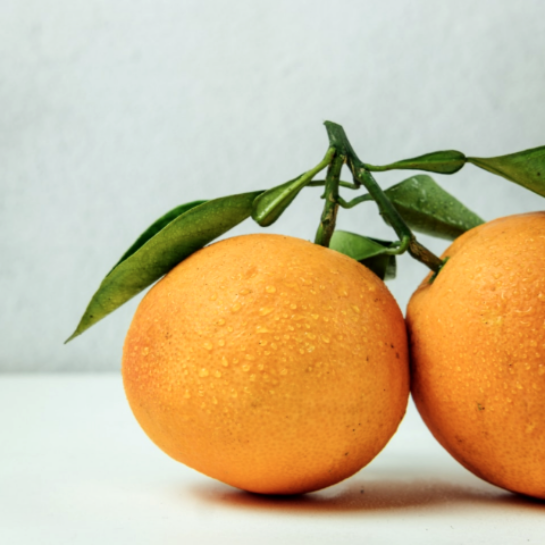orange: (93, 205, 441, 512)
